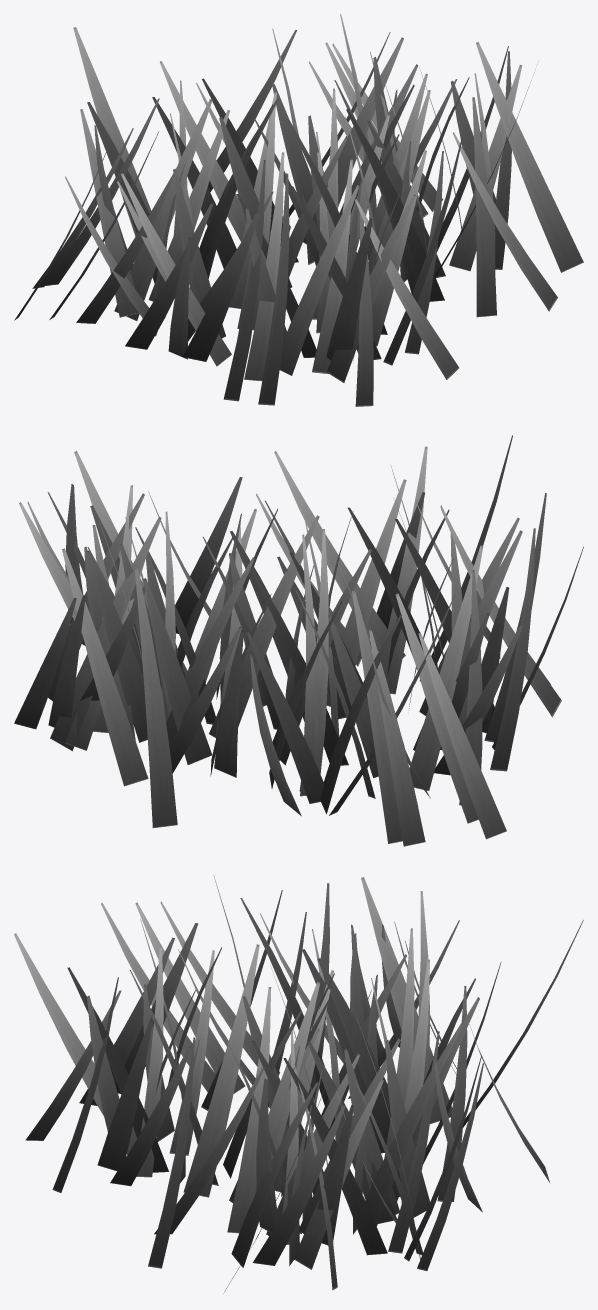
File: GrassModel.fbx
The picture shows the model from 3 angles, top to bottom: view 1: azimuth 30°, elevation 25°; view 2: azimuth 150°, elevation 25°; view 3: azimuth 270°, elevation 25°; orthographic projection. The views are drawn at different scales.
Visible parts, largest first — view 1: Plane.297; view 2: Plane.297; view 3: Plane.297.
Part boxes in pixels (x1,y1,x2,y2): Plane.297: (14, 14, 583, 406); Plane.297: (14, 435, 583, 846); Plane.297: (14, 875, 583, 1293).
Size of the model in its own units: 0.2978 by 0.1241 by 0.2865.
